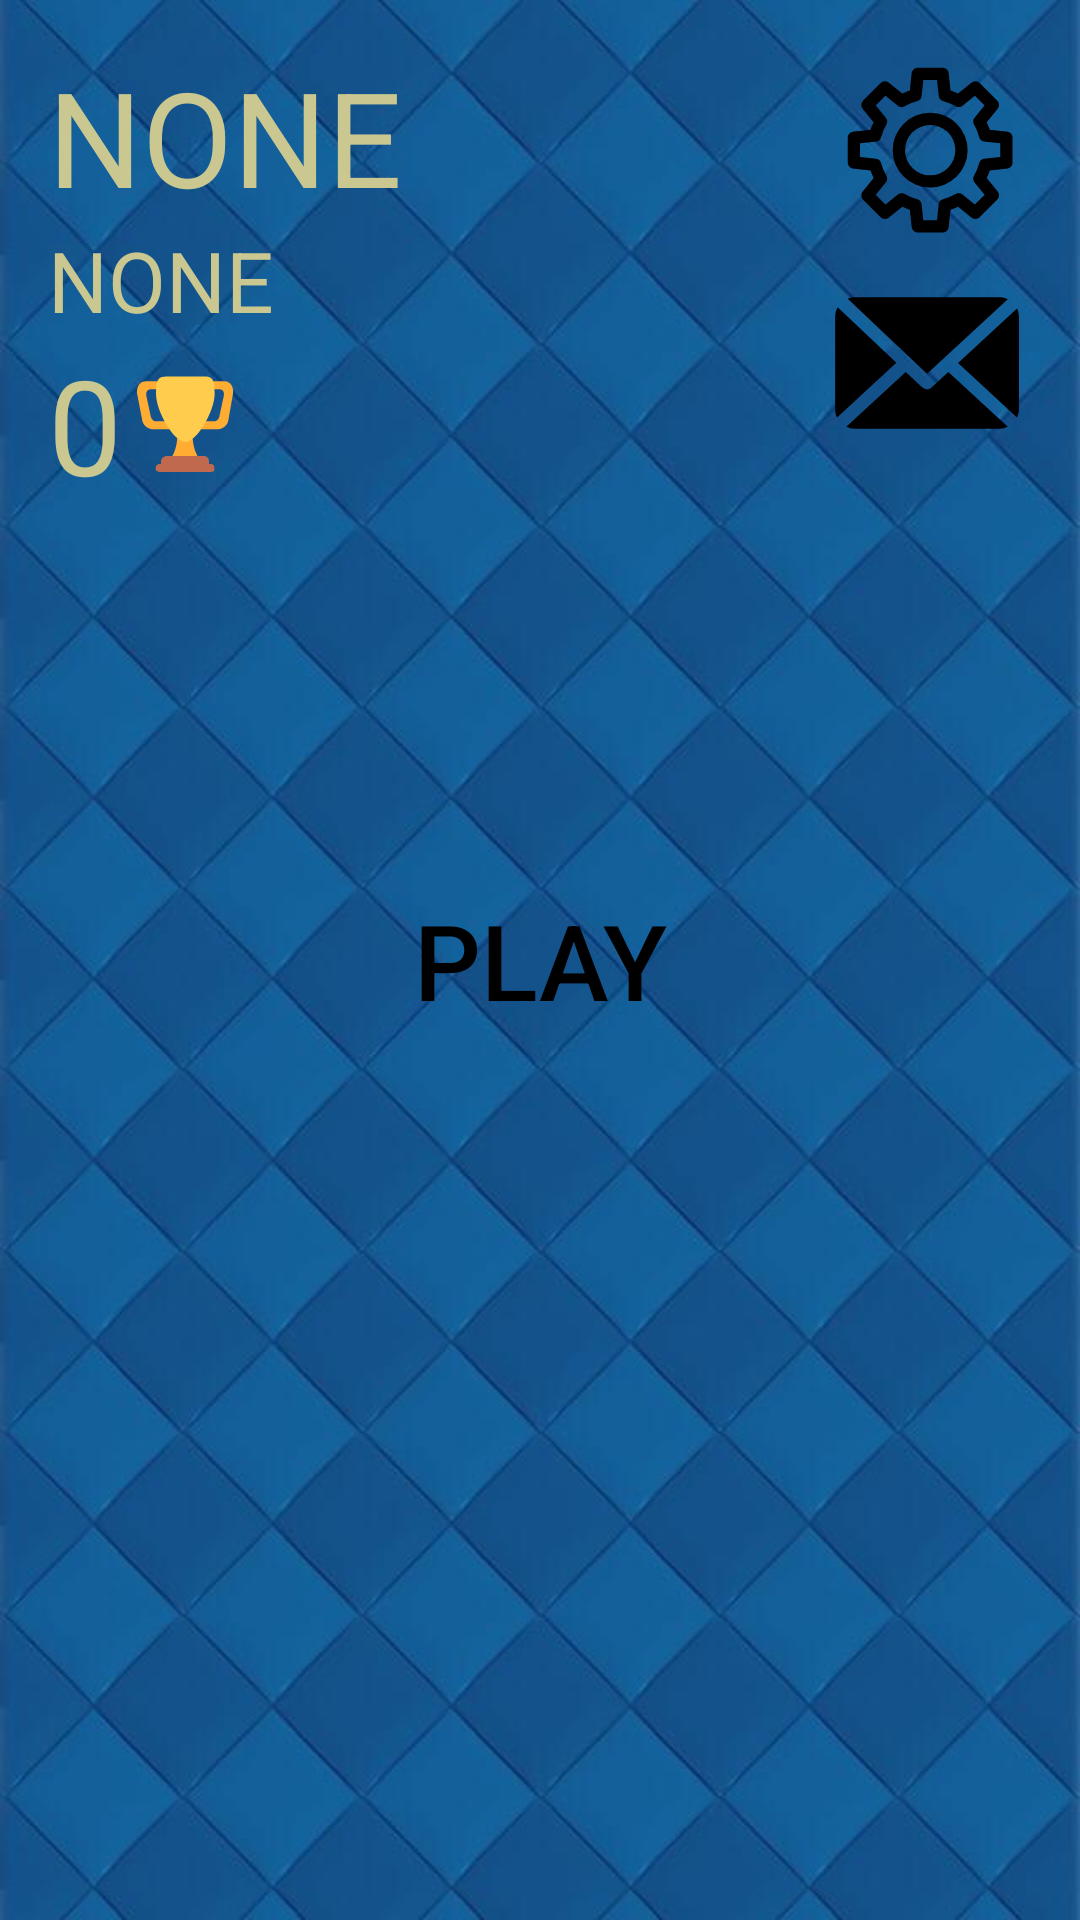

Icon click points for this 1080px×1920px phone screenshot, format (x=x, y=y):
inbox: (x=927, y=367)
setting: (x=927, y=144)
